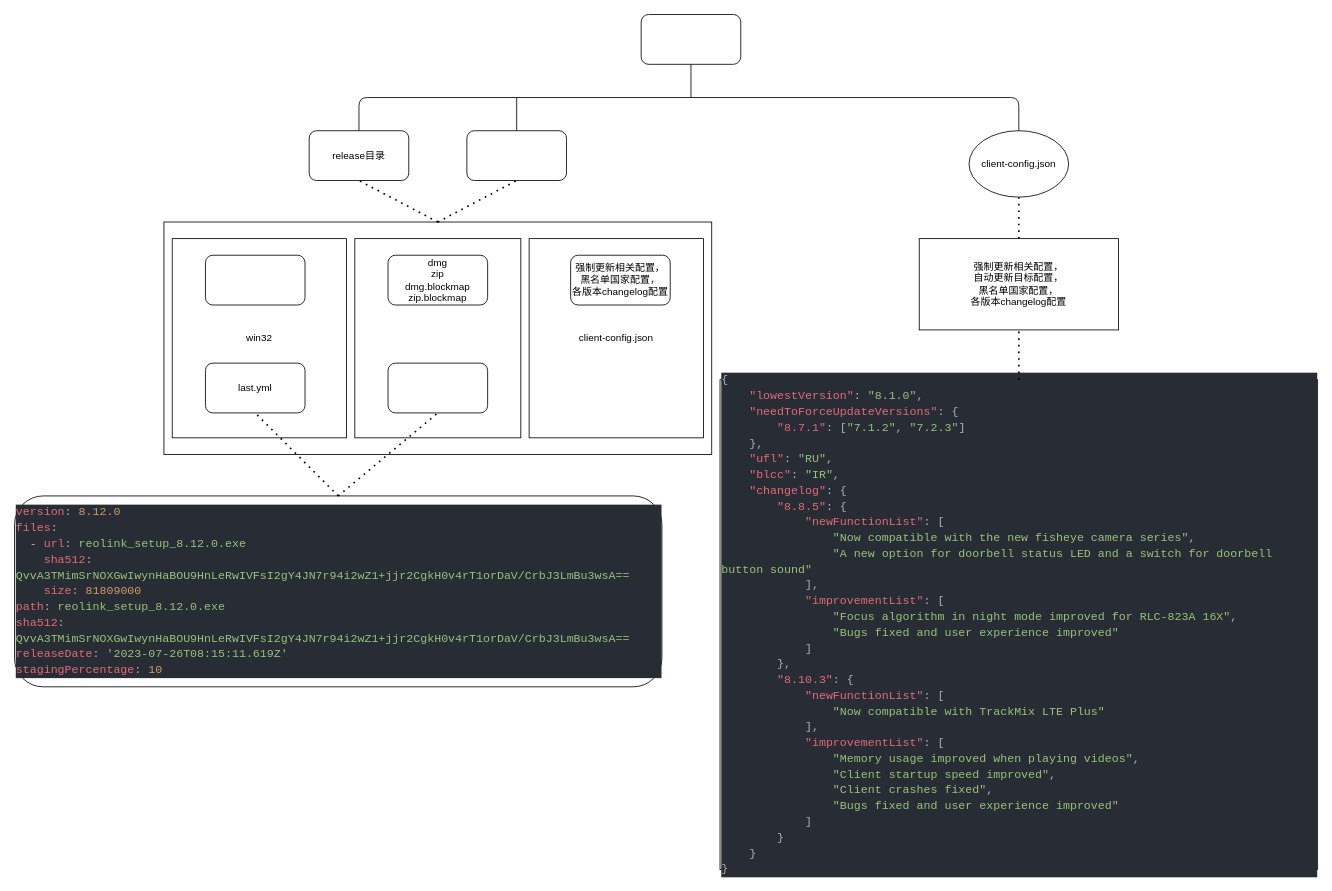
Image size: 1332x891. Some labels were removed from this diagram. The box of each missing label's shape, as (x1, y1, x2, y2) in pixels:
exe zip exe.blockmap: (205, 254, 305, 305)
latest-mac.yml: (387, 362, 488, 413)
macos: (354, 238, 521, 438)
ru目录: (466, 130, 566, 181)
S3的client目录: (640, 14, 741, 64)
